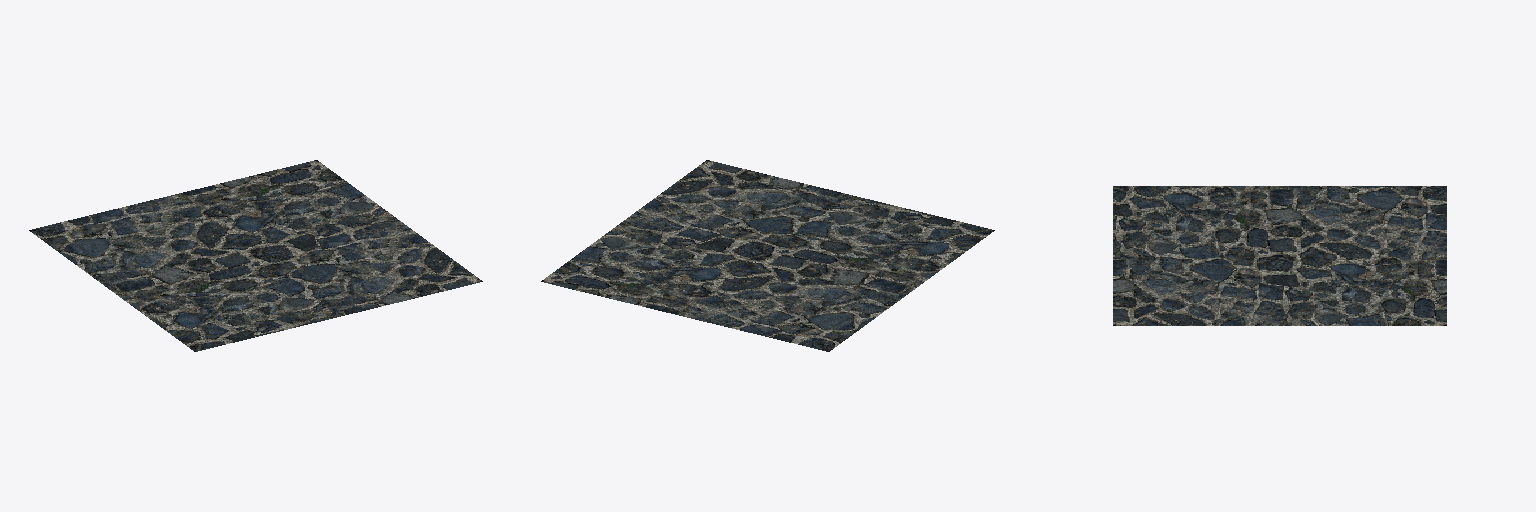
3 views of the same model, side by side, from view 1: azimuth 30°, elevation 25°; view 2: azimuth 150°, elevation 25°; view 3: azimuth 270°, elevation 25° (orthographic).
Parts seen in each view (by area): view 1: Plane; view 2: Plane; view 3: Plane.
Part boxes in pixels (x1,y1,x2,y2): Plane: (29,160,482,351); Plane: (541,160,994,351); Plane: (1113,186,1446,325).
Bounding box in the file's own units: 23.44 × 0 × 23.44.
Materials: 1 (1 with a texture image).